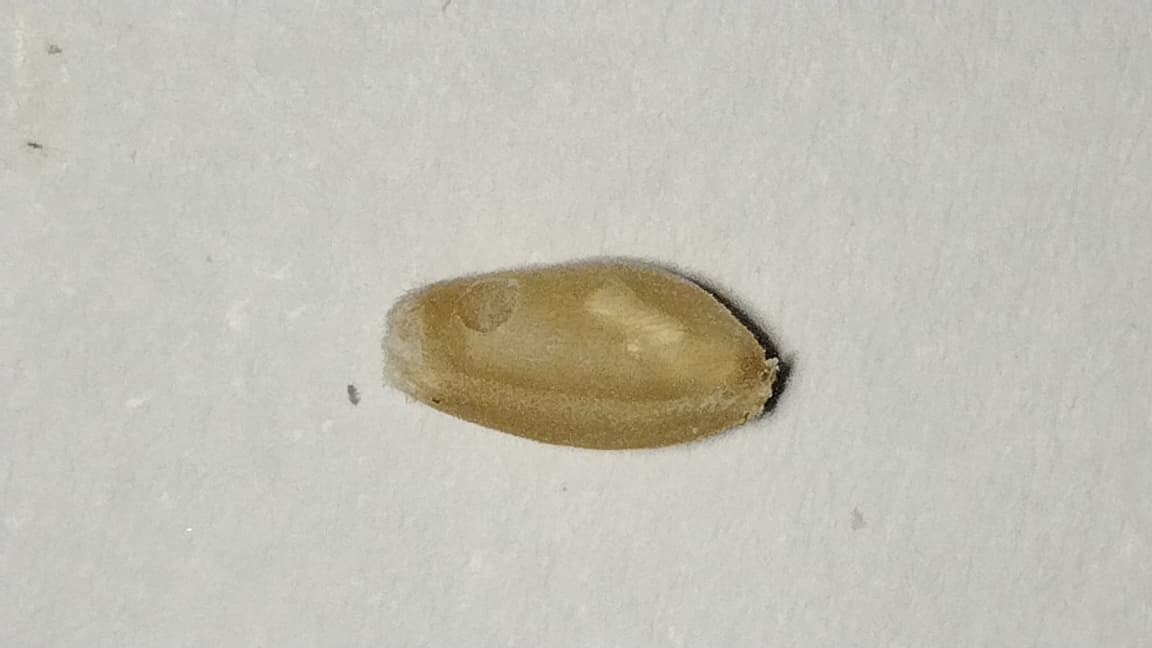damage: (388, 268, 776, 447)
insectdamage: (439, 272, 538, 352)
